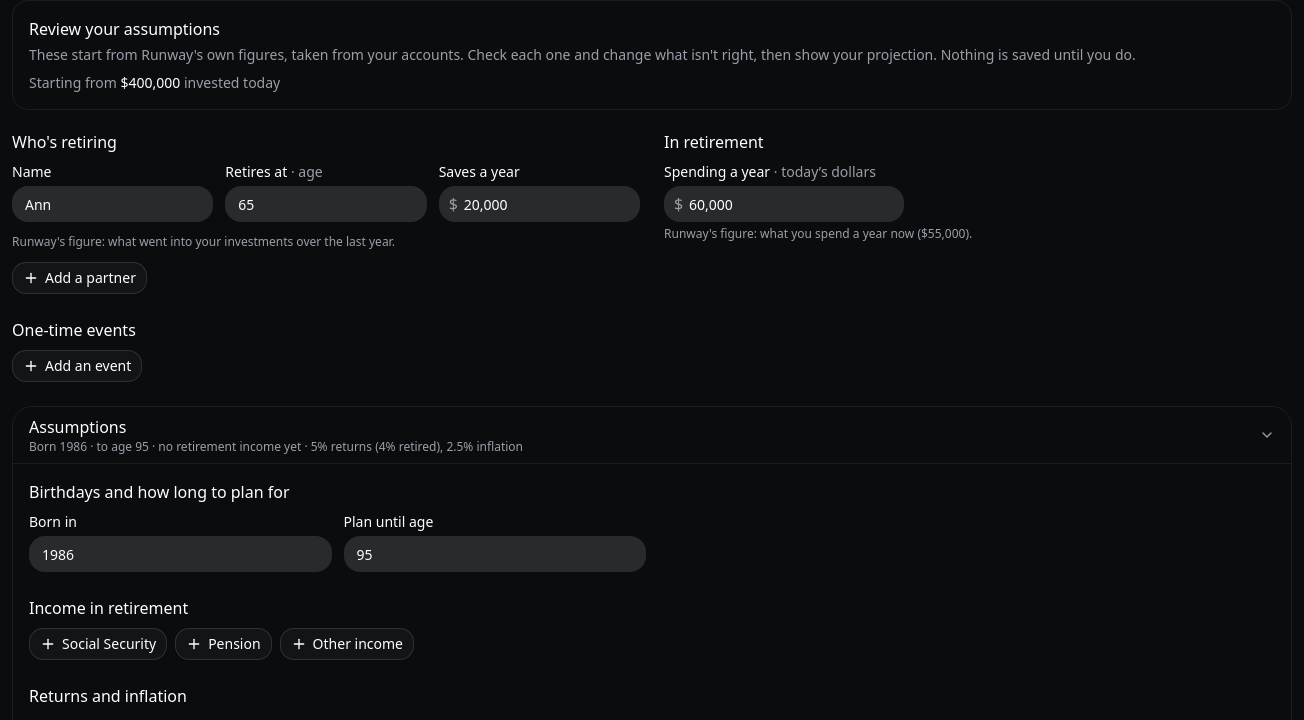
Test: reviewing a default plan › keeps the draft with the reason and a Retry when the save fails, and shows nothing until it works
The width and height of the screenshot is (1304, 720).
Type "x" into the field labelled "Name". click: (113, 204)
box: [12,186,213,222]
(page scrolled)
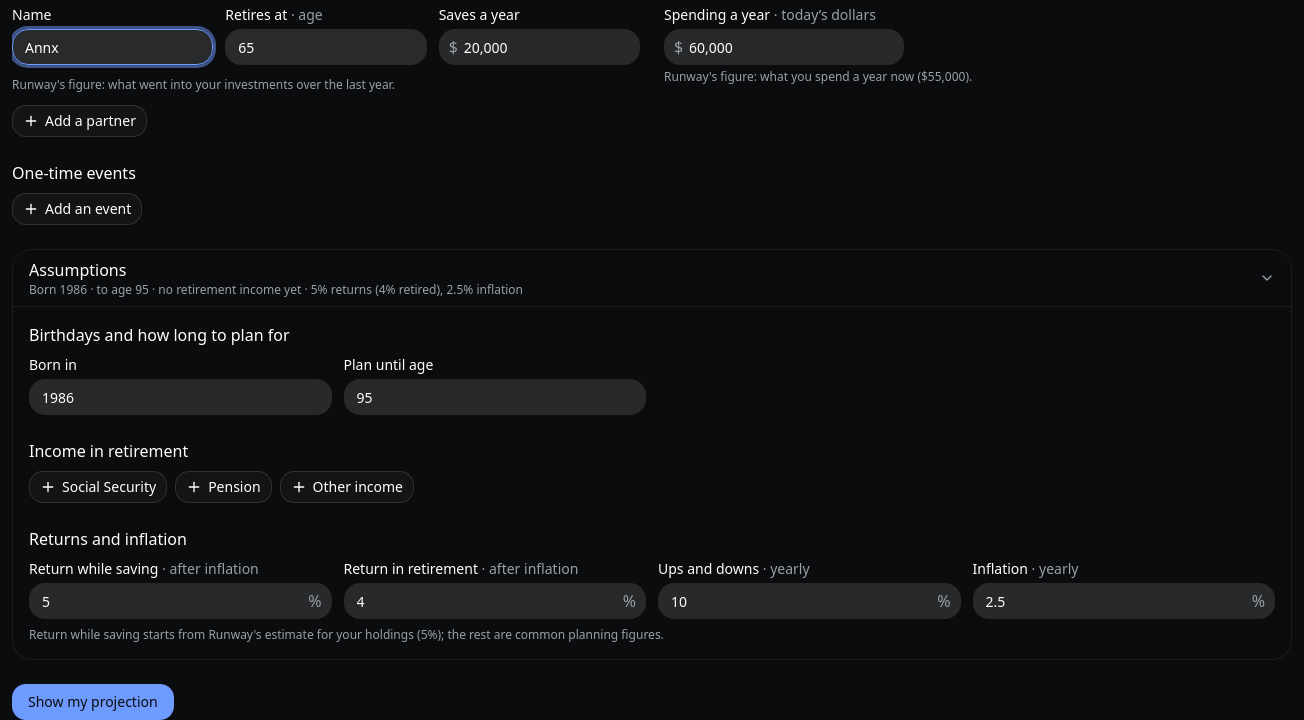
Click the button "Show my projection". click: click(93, 702)
box: [12,684,174,719]
(page scrolled)
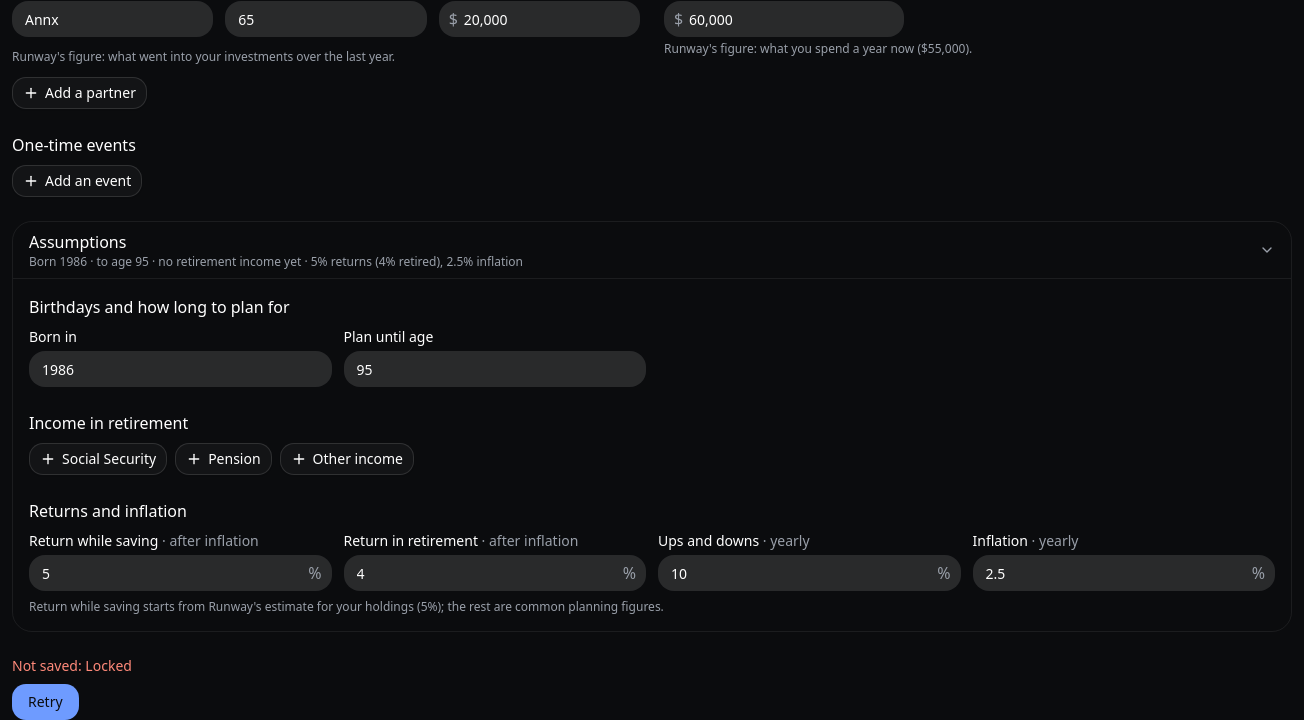
Check: the text "Chance your money lasts" is not shown
Check: the field labelled "Name" holds "Annx", box [12,1,213,37]
Check: the message reads "Not saved: Locked", box [12,656,132,675]
Click the button "Retry". click: click(45, 702)
box: [12,684,79,719]
(page scrolled)
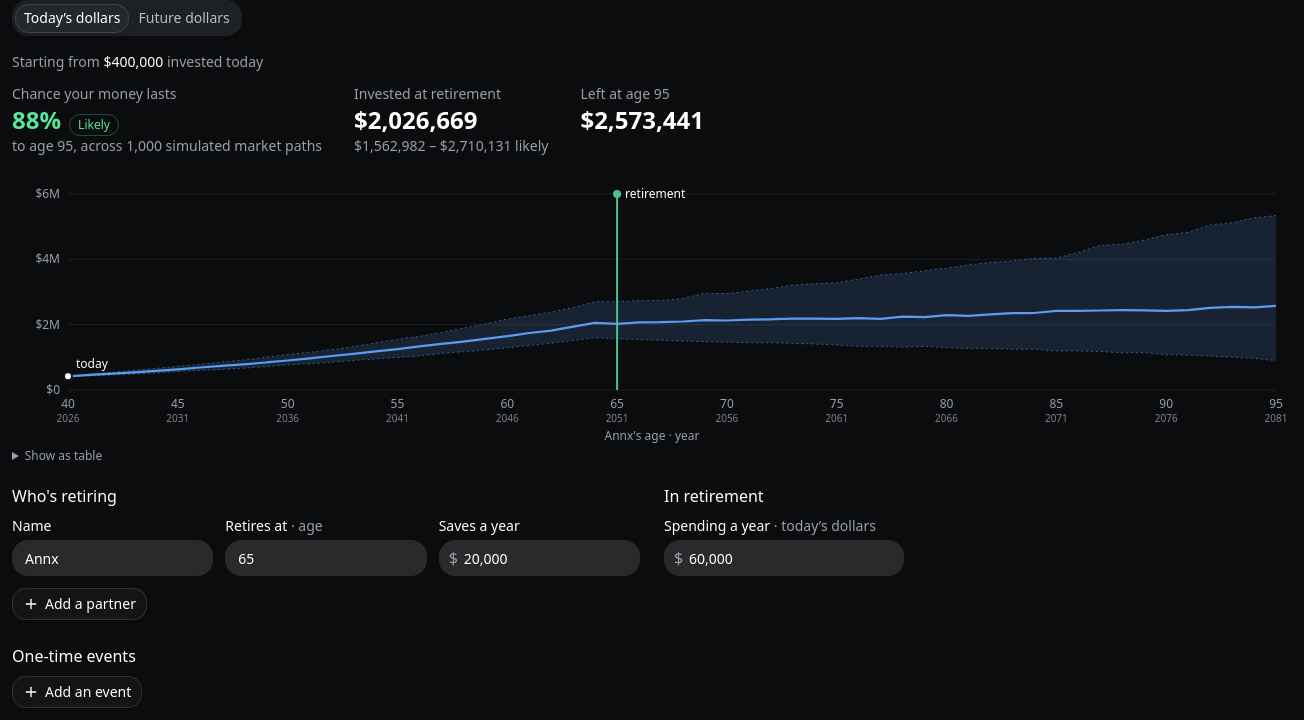
Check: the text "Chance your money lasts" is shown, box [12,84,176,103]
